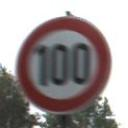speed_limit_100: (12, 11, 116, 117)
